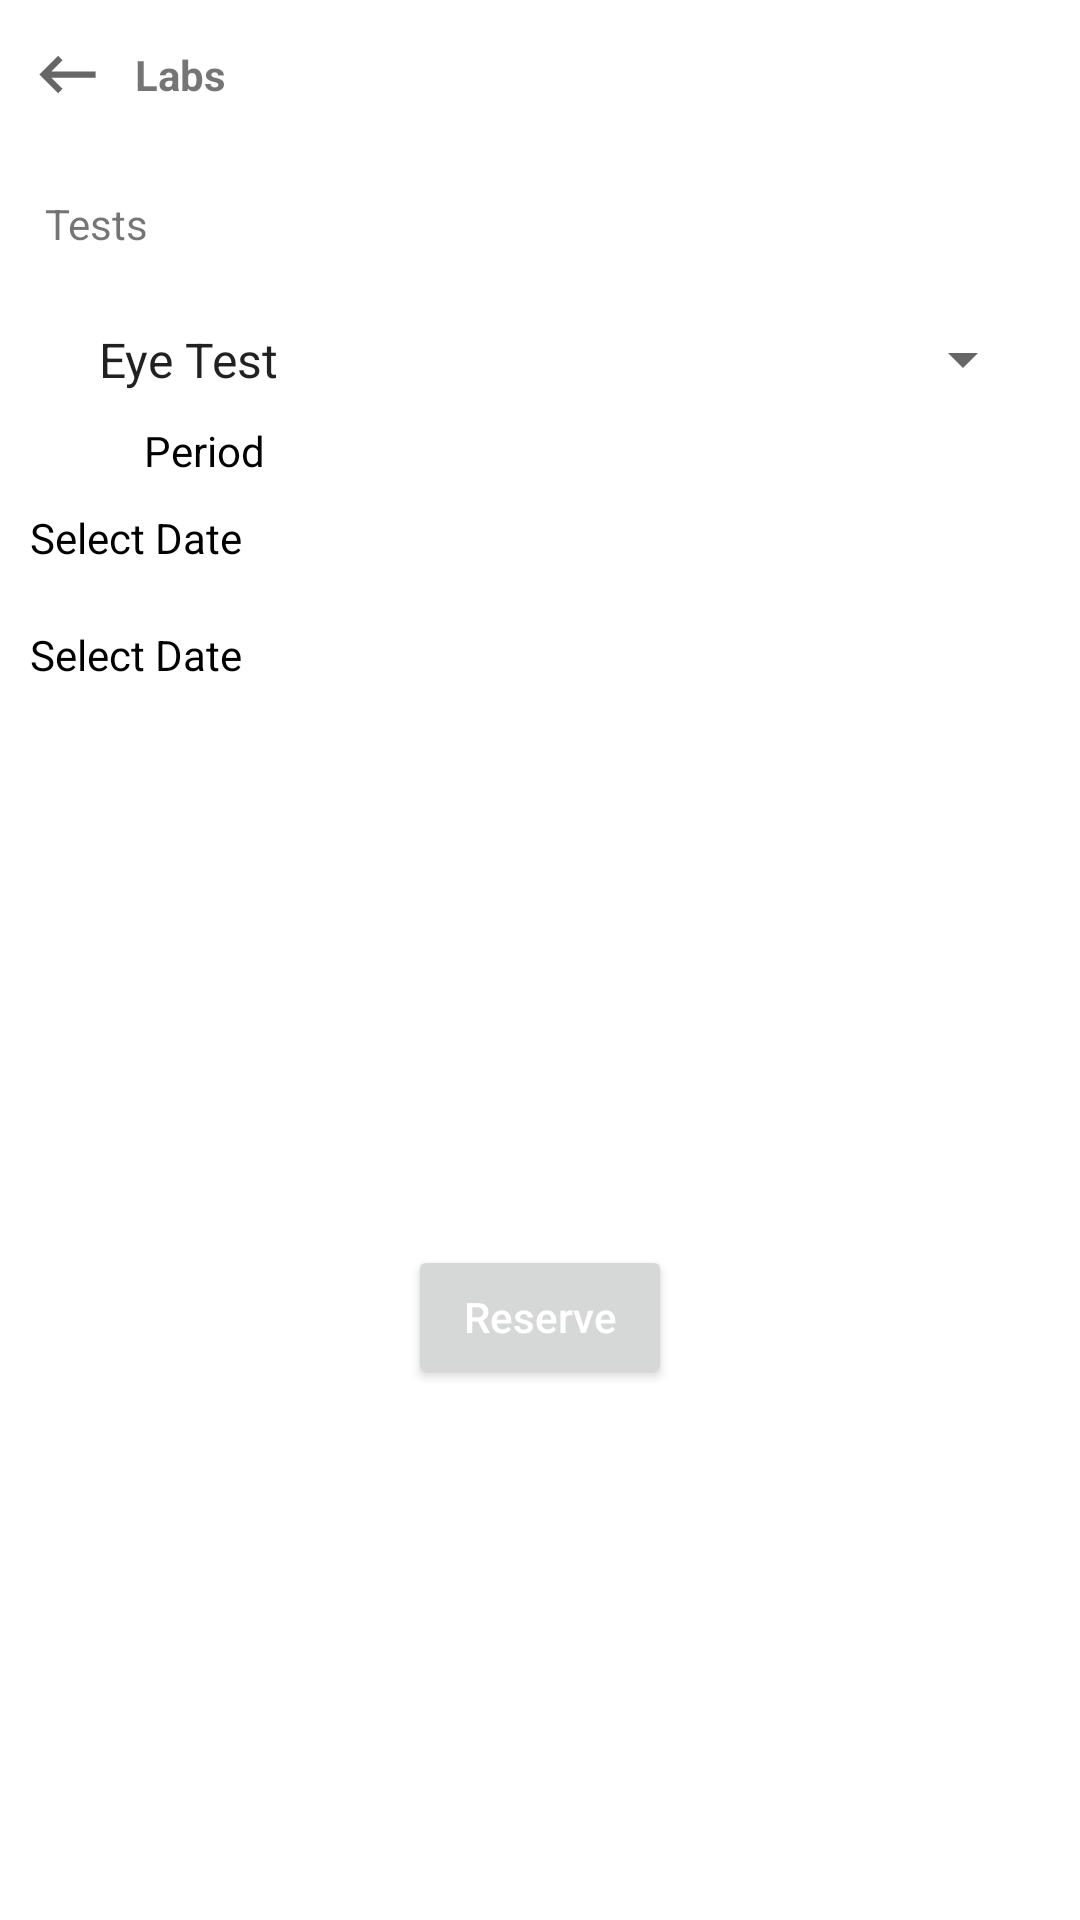

Where to tap for icons on this 1080px x 1920px app screen, as [x,y]:
back: [67,74]
